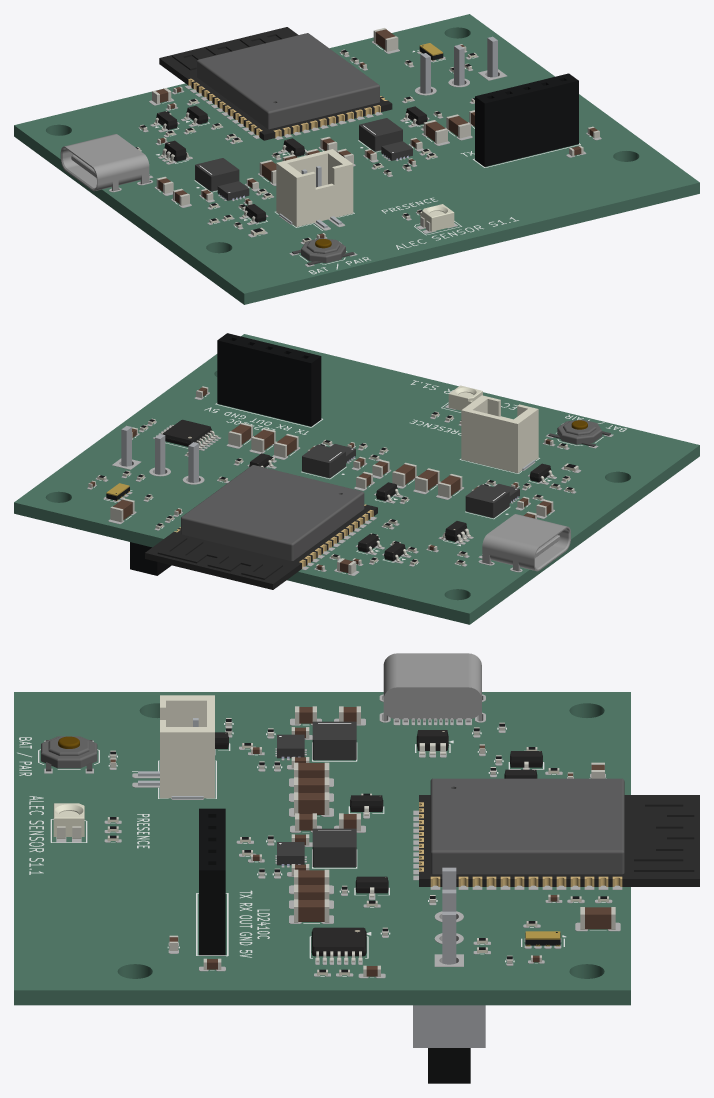
File: assembly.glb
3 renders of one model, top to bottom at view 1: azimuth 30°, elevation 25°; view 2: azimuth 150°, elevation 25°; view 3: azimuth 270°, elevation 25°, orthographic. The views are drawn at different scales.
Visible parts, largest first — view 1: =>[0:1:1:24], U3, housing (×2), J2, =>[0:1:1:21], =>[0:1:1:22], L1, L2, SW7, D2, U1, U2; view 2: =>[0:1:1:24], U3, housing (×2), J2, =>[0:1:1:21], =>[0:1:1:22], L1, L2, U10, SW7, actuator, D2; view 3: =>[0:1:1:24], U3, housing (×2), J2, =>[0:1:1:21], =>[0:1:1:22], case, U10, L2, L1, SW7, actuator (+8 smaller).
Part boxes in pixels (bbox=[...]): =>[0:1:1:24]: bbox=[14, 14, 699, 304]; U3: bbox=[159, 27, 392, 140]; housing (×2): bbox=[276, 73, 578, 226]; J2: bbox=[60, 134, 149, 191]; =>[0:1:1:21]: bbox=[109, 41, 601, 266]; =>[0:1:1:22]: bbox=[140, 45, 590, 274]; L1: bbox=[195, 158, 239, 191]; L2: bbox=[359, 118, 402, 151]; SW7: bbox=[292, 238, 354, 265]; D2: bbox=[420, 204, 454, 231]; U1: bbox=[217, 181, 249, 200]; U2: bbox=[381, 141, 412, 160]; =>[0:1:1:24]: bbox=[14, 334, 699, 624]; U3: bbox=[145, 465, 377, 589]; housing (×2): bbox=[217, 333, 538, 473]; J2: bbox=[482, 514, 570, 571]; =>[0:1:1:21]: bbox=[87, 392, 613, 575]; =>[0:1:1:22]: bbox=[94, 380, 626, 573]; L1: bbox=[465, 484, 509, 517]; L2: bbox=[302, 444, 345, 477]; U10: bbox=[161, 419, 218, 449]; SW7: bbox=[548, 419, 610, 446]; actuator: bbox=[130, 542, 171, 575]; D2: bbox=[448, 385, 482, 410]; =>[0:1:1:24]: bbox=[14, 692, 630, 1005]; U3: bbox=[419, 778, 699, 886]; housing (×2): bbox=[160, 695, 225, 955]; J2: bbox=[383, 653, 481, 722]; =>[0:1:1:21]: bbox=[44, 694, 622, 978]; =>[0:1:1:22]: bbox=[17, 723, 606, 977]; case: bbox=[413, 1005, 485, 1047]; U10: bbox=[311, 927, 366, 962]; L2: bbox=[312, 828, 356, 867]; L1: bbox=[312, 721, 356, 759]; SW7: bbox=[41, 736, 97, 771]; actuator: bbox=[428, 1048, 470, 1083].
Bounding box in the file's own units: 0.0653 × 0.0216 × 0.0623.
